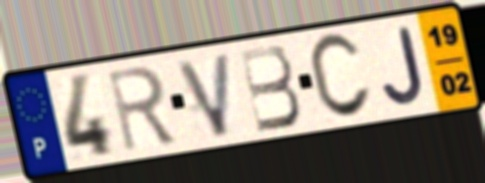4: (62, 69, 117, 160)
B: (236, 42, 304, 135)
C: (306, 30, 375, 123)
J: (379, 23, 428, 109)
R: (103, 63, 181, 156)
V: (173, 49, 234, 141)
